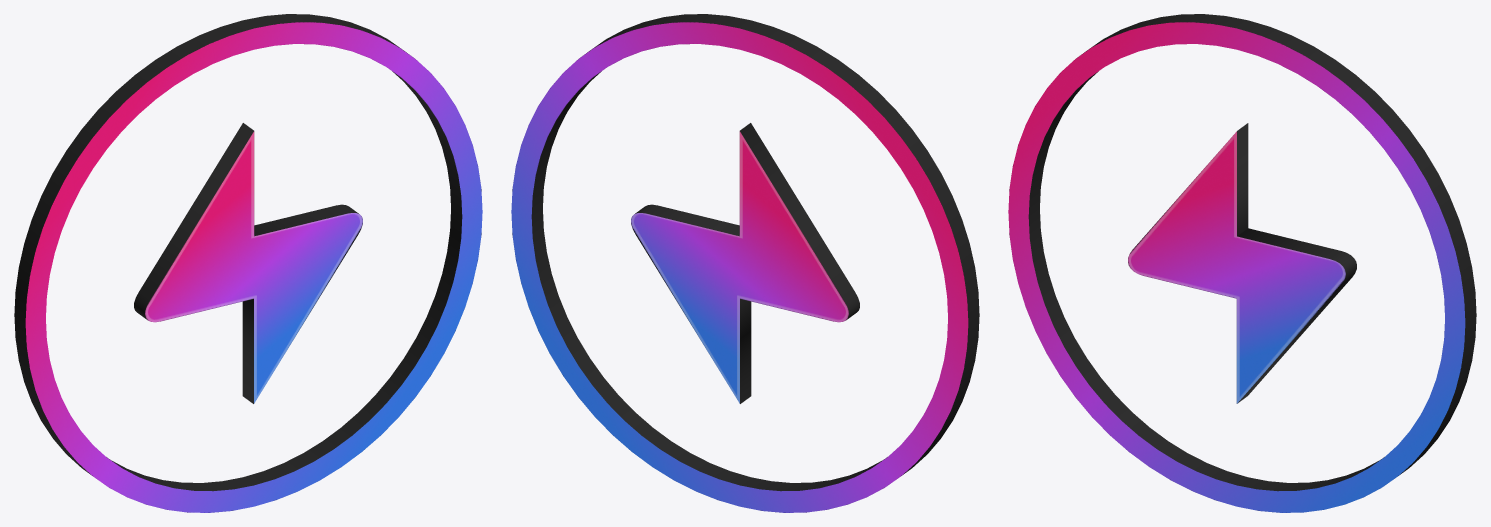
File: $HYPER.glb
3 renders of one model, left to right at view 1: azimuth 30°, elevation 25°; view 2: azimuth 150°, elevation 25°; view 3: azimuth 330°, elevation 25°, orthographic.
Parts seen in each view (by area): view 1: Ring, $HYPER; view 2: Ring, $HYPER; view 3: Ring, $HYPER.
Boxes of the visible parts, x1,y1,x2,y2 form: Ring: (14,14,482,512); $HYPER: (134,123,362,403); Ring: (511,14,979,512); $HYPER: (631,123,859,403); Ring: (1008,14,1476,512); $HYPER: (1128,123,1356,403).
Bounding box in the file's own units: 3 × 3 × 0.1271.
Materials: 2 (1 with a texture image).
